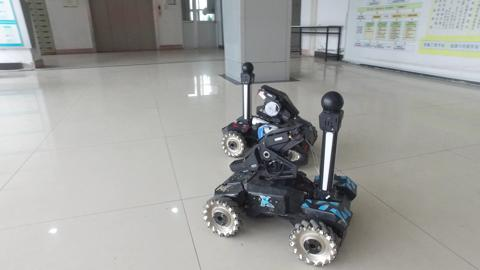chariot: (194, 84, 374, 270), (212, 58, 318, 168)
